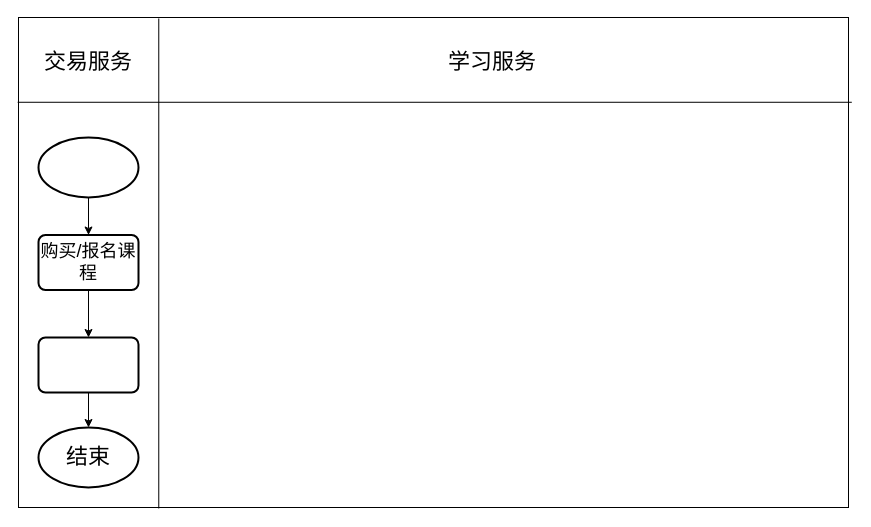
The diagram is 871 pixels wide and 527 high, and some of its shapes have lost their labels. The shapes that lost their labels are listed below. From the top down, each one's centre as x and y in pixels, then its label:
the point at 88,167: 开始
the point at 88,364: 支付
